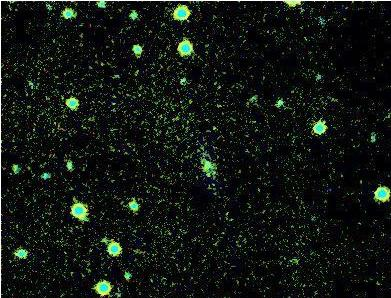star: (196, 161, 226, 191)
